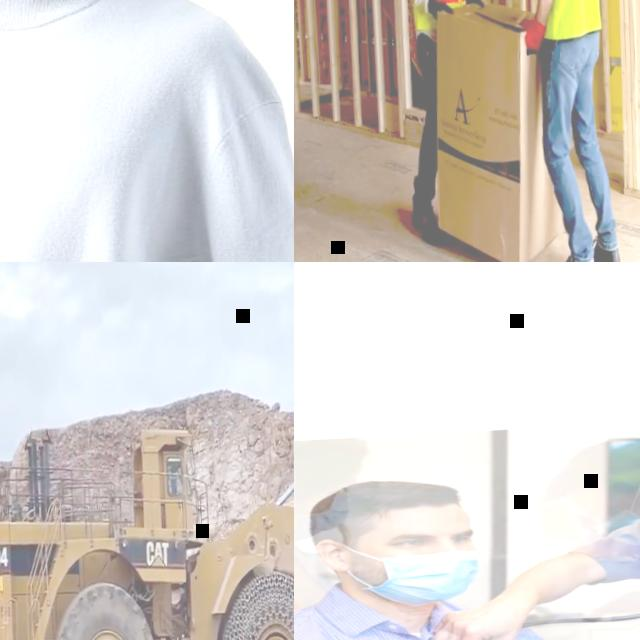Mask: (378, 546, 483, 608), (294, 490, 350, 539), (583, 508, 640, 547)
NO-Hardhat: (308, 474, 470, 536), (532, 438, 640, 497), (298, 436, 379, 481), (579, 589, 640, 612)
NO-Safety Vest: (0, 0, 202, 262)
Person: (0, 0, 294, 262), (439, 412, 640, 640), (294, 469, 561, 640), (507, 0, 629, 262), (391, 0, 499, 242), (533, 432, 640, 537), (294, 437, 365, 531), (167, 470, 173, 497)
Safety Vest: (526, 0, 608, 41)
vehicle: (0, 396, 294, 640)
